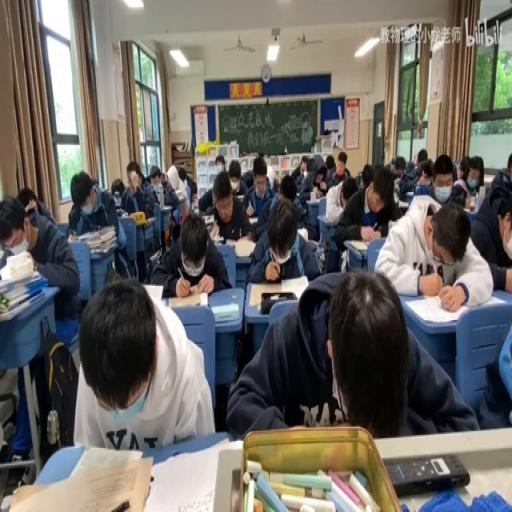calculator: (6, 442, 153, 509), (140, 440, 233, 510), (404, 294, 466, 324), (166, 289, 207, 307), (77, 224, 115, 242), (210, 300, 238, 322), (3, 236, 30, 258), (140, 282, 165, 304), (232, 236, 255, 256), (349, 238, 374, 253), (90, 244, 116, 258), (322, 213, 342, 226), (210, 228, 224, 243), (148, 249, 160, 266), (224, 239, 237, 252), (296, 225, 307, 240), (190, 199, 200, 215), (202, 213, 214, 225), (483, 174, 495, 186), (67, 233, 81, 243), (398, 202, 408, 215), (142, 216, 156, 225), (306, 196, 320, 205), (405, 189, 414, 201), (248, 216, 258, 225), (232, 192, 246, 198), (294, 190, 301, 198)
paper: (226, 266, 473, 437), (75, 270, 213, 452), (2, 190, 80, 454), (375, 194, 494, 308), (68, 168, 130, 289), (245, 193, 318, 293), (332, 161, 402, 253), (195, 169, 253, 245), (475, 312, 511, 426), (121, 162, 159, 222), (294, 155, 326, 211), (450, 154, 482, 208), (16, 186, 54, 226), (244, 155, 274, 203), (429, 154, 455, 206), (320, 151, 346, 192), (489, 155, 512, 195), (158, 179, 179, 211), (179, 165, 197, 201), (278, 174, 297, 204), (418, 160, 434, 188), (341, 180, 357, 208), (358, 162, 373, 189), (110, 176, 125, 200), (392, 155, 406, 179), (149, 165, 162, 186), (227, 161, 240, 182), (179, 196, 189, 219), (290, 165, 300, 185), (214, 154, 226, 170), (306, 156, 316, 174), (416, 148, 427, 163), (299, 155, 308, 172), (405, 162, 414, 176), (160, 171, 166, 186), (274, 175, 280, 188), (140, 174, 147, 182)
person: (386, 452, 470, 494), (259, 290, 297, 314), (245, 230, 254, 240)
